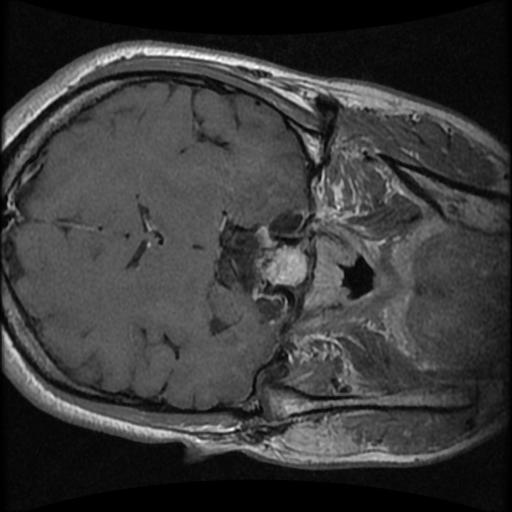pituitary tumour: (255, 242, 309, 287)
